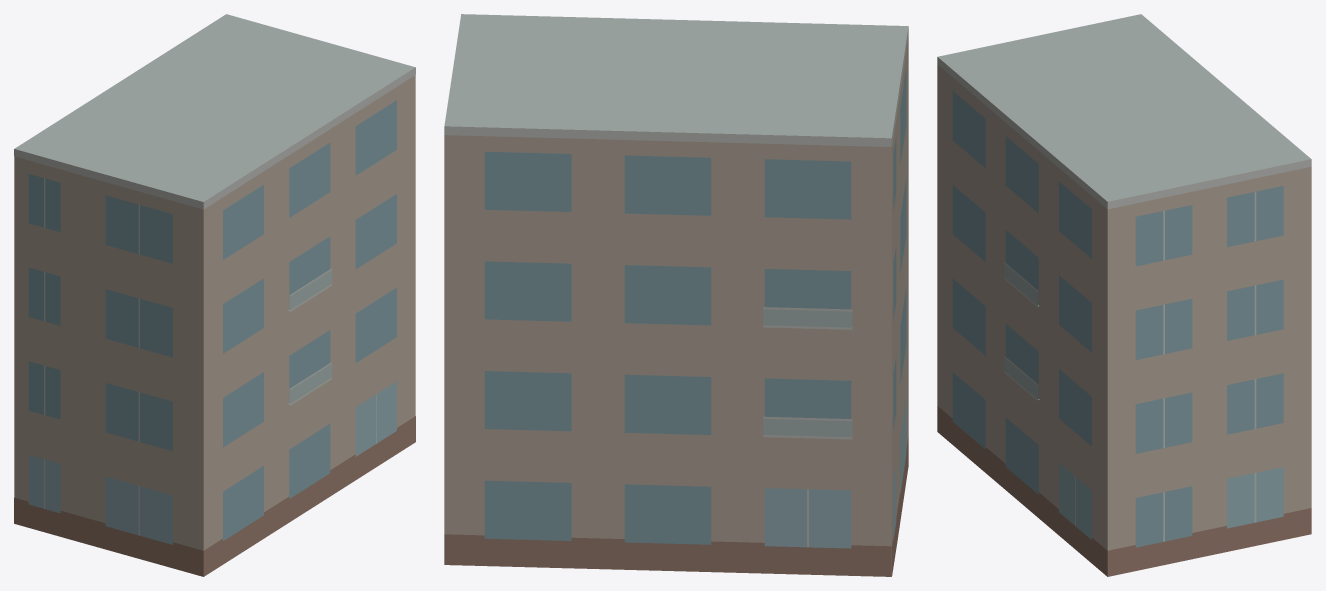
The model's file is residential-596a5278-09a6-4c22-a266-a275082fbe6b.glb.
The picture shows the model from 3 angles, left to right: view 1: azimuth 30°, elevation 25°; view 2: azimuth 150°, elevation 25°; view 3: azimuth 270°, elevation 25°; orthographic projection. The views are drawn at different scales.
Visible parts, largest first — view 1: residential-596a5278-09a6-4c22-a266-a275082fbe6b.tmp; view 2: residential-596a5278-09a6-4c22-a266-a275082fbe6b.tmp; view 3: residential-596a5278-09a6-4c22-a266-a275082fbe6b.tmp.
Part boxes in pixels (x1=…): residential-596a5278-09a6-4c22-a266-a275082fbe6b.tmp: x1=14, y1=14, x2=415, y2=576; residential-596a5278-09a6-4c22-a266-a275082fbe6b.tmp: x1=444, y1=14, x2=908, y2=576; residential-596a5278-09a6-4c22-a266-a275082fbe6b.tmp: x1=937, y1=14, x2=1311, y2=576.
Size of the model in its own units: 13.12 by 12.2 by 11.04.
